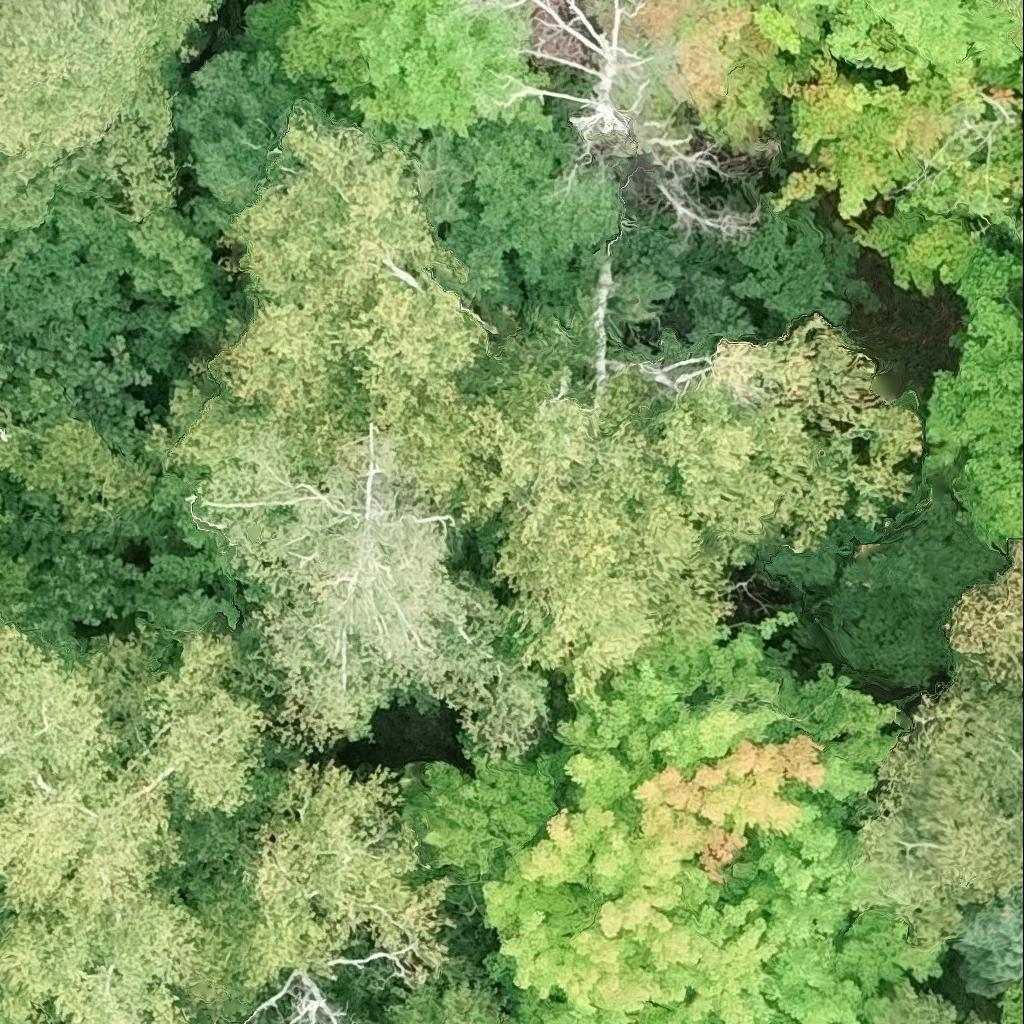crown: (408, 614, 942, 1023), (773, 50, 1023, 554), (192, 416, 554, 755), (455, 302, 736, 702), (285, 103, 507, 500), (0, 619, 266, 928), (458, 0, 762, 241), (654, 312, 923, 566), (142, 162, 343, 473), (198, 760, 454, 995), (859, 664, 1023, 951), (246, 0, 553, 144), (0, 0, 215, 202), (0, 188, 243, 357), (619, 0, 821, 160), (0, 888, 233, 1023), (765, 0, 1023, 86), (0, 326, 151, 453), (952, 537, 1023, 690), (951, 887, 1023, 998), (382, 971, 517, 1023), (865, 975, 993, 1023), (0, 191, 44, 271), (10, 11, 61, 62), (0, 982, 47, 1023), (994, 977, 1023, 1023), (172, 991, 206, 1023), (1007, 0, 1023, 53), (0, 907, 4, 937), (581, 0, 601, 4), (0, 427, 3, 441)
